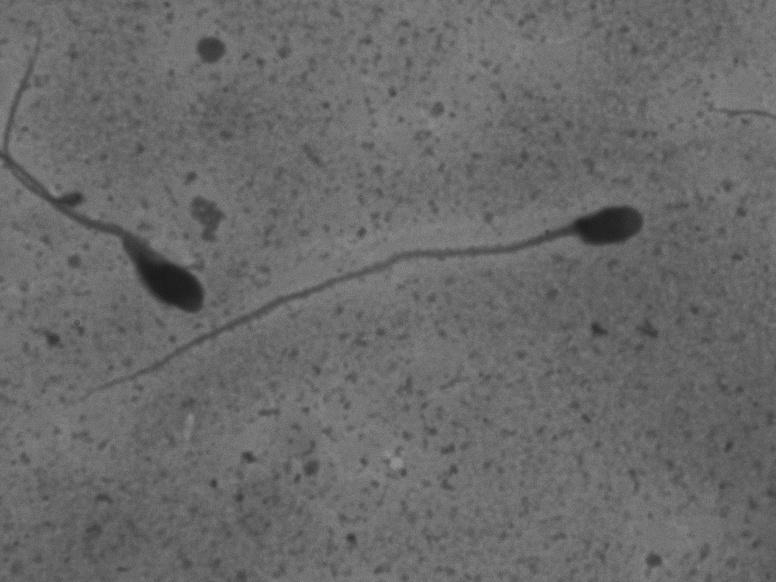Abnormal: (62, 189, 658, 420), (39, 177, 246, 329)
